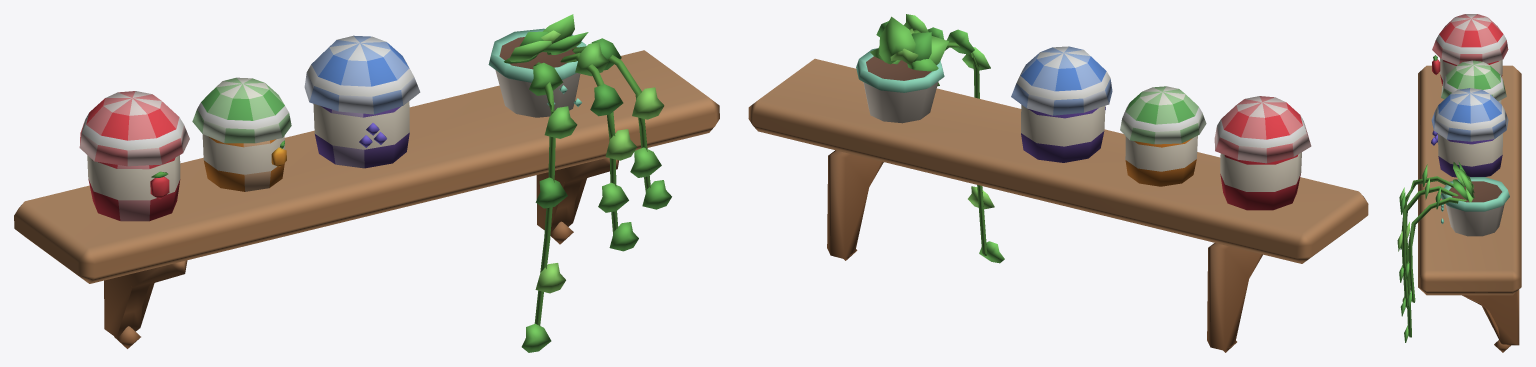
File: furn-wallShelf.glb
The picture shows the model from 3 angles, left to right: view 1: azimuth 30°, elevation 25°; view 2: azimuth 150°, elevation 25°; view 3: azimuth 270°, elevation 25°; orthographic projection. The views are drawn at different scales.
Parts seen in each view (by area): view 1: furn-wallShelf; view 2: furn-wallShelf; view 3: furn-wallShelf.
Boxes of the visible parts, <box> form: furn-wallShelf: <box>14,14,719,352</box>; furn-wallShelf: <box>748,14,1368,352</box>; furn-wallShelf: <box>1397,14,1521,352</box>.
Size of the model in its own units: 0.9205 by 0.4177 by 0.2274.
